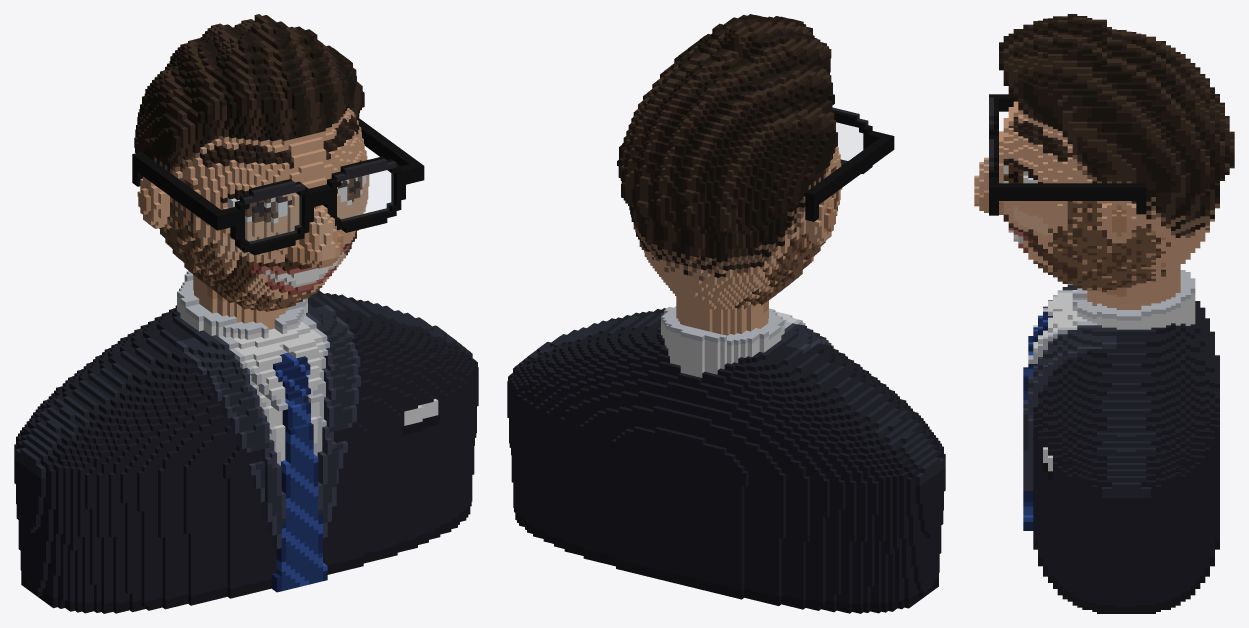
Rendered from avatar-voxel.glb.
3 renders of one model, left to right at view 1: azimuth 30°, elevation 25°; view 2: azimuth 150°, elevation 25°; view 3: azimuth 270°, elevation 25°, orthographic. The views are drawn at different scales.
Visible parts, largest first — view 1: Bust; view 2: Bust; view 3: Bust.
Boxes of the visible parts, x1,y1,x2,y2 form: Bust: (14,14,478,613); Bust: (507,14,945,613); Bust: (974,14,1234,613).
Size of the model in its own units: 0.342 by 0.4032 by 0.1908.
